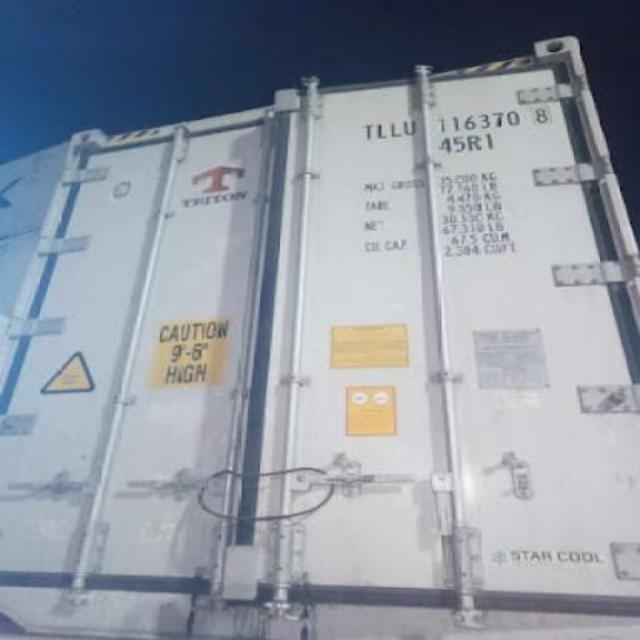0: (507, 110, 521, 126)
1: (436, 118, 448, 134), (449, 116, 461, 132)
3: (478, 112, 492, 130)
6: (464, 113, 476, 131)
7: (491, 111, 505, 129)
8: (534, 108, 548, 124)
L: (392, 120, 402, 140), (376, 123, 388, 139)
T: (361, 122, 375, 142)
U: (403, 120, 417, 136)
